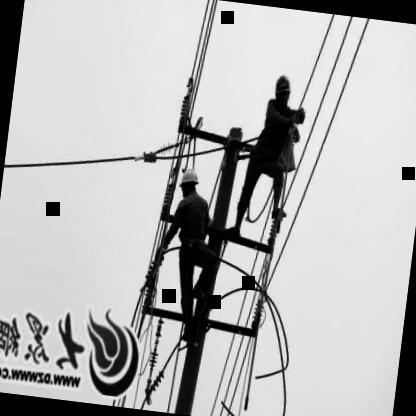helmet: (176, 162, 203, 198), (270, 72, 294, 108)
